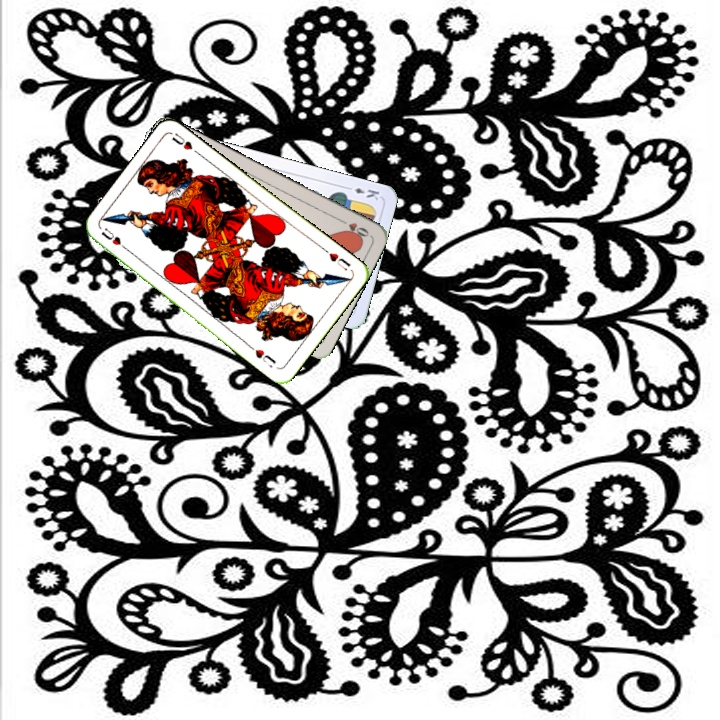EK: (342, 182, 382, 203)
HO: (334, 215, 372, 241)
HU: (97, 224, 132, 254), (319, 244, 353, 273)
